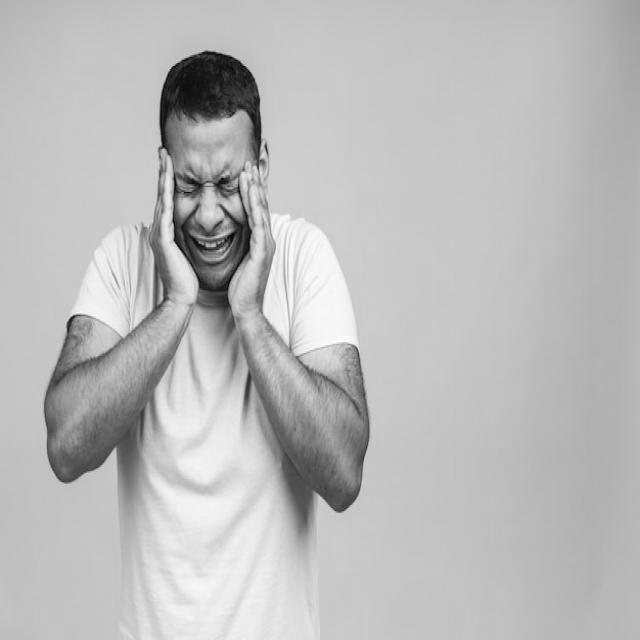real: (165, 111, 259, 293), (167, 168, 259, 214)
